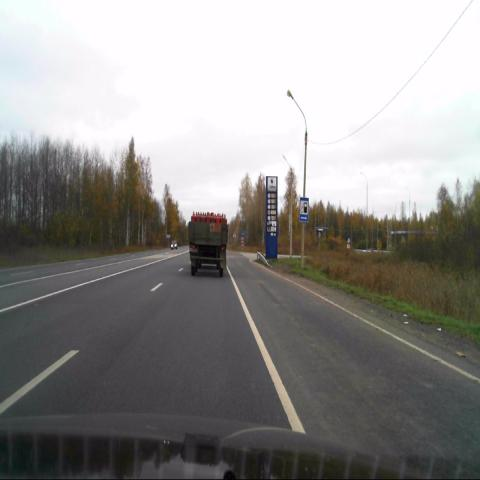7_3: (299, 196, 309, 222)
